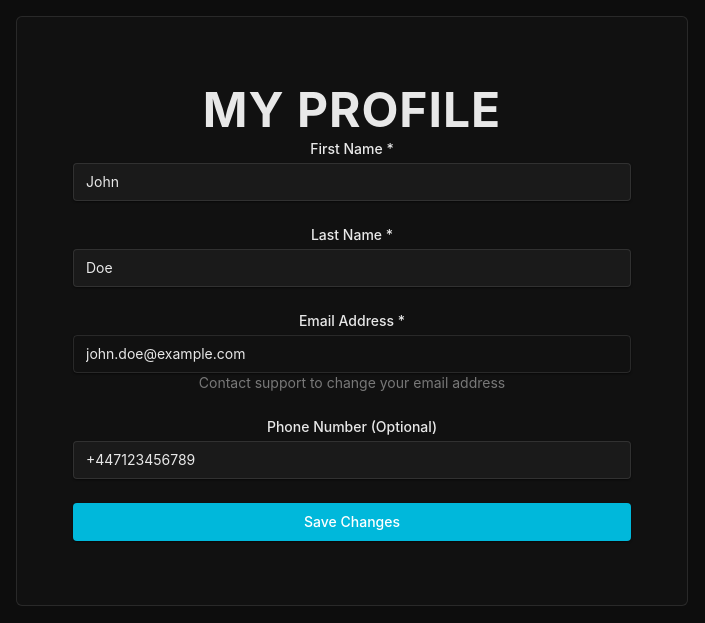
MyProfilePage › Form Submission › should show loading state during submission
This screenshot has width=705, height=623.
Expected: the field showing "John" is shown, [73,163,631,201]
Click the button "Save Changes" at point(352, 522), box [73,503,631,541]
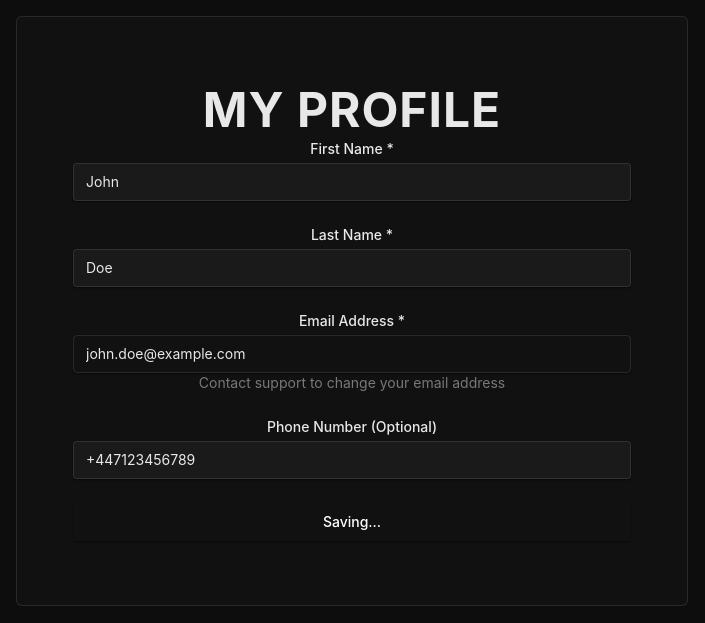
Expected: the button "Saving..." is shown, [73,503,631,541]
